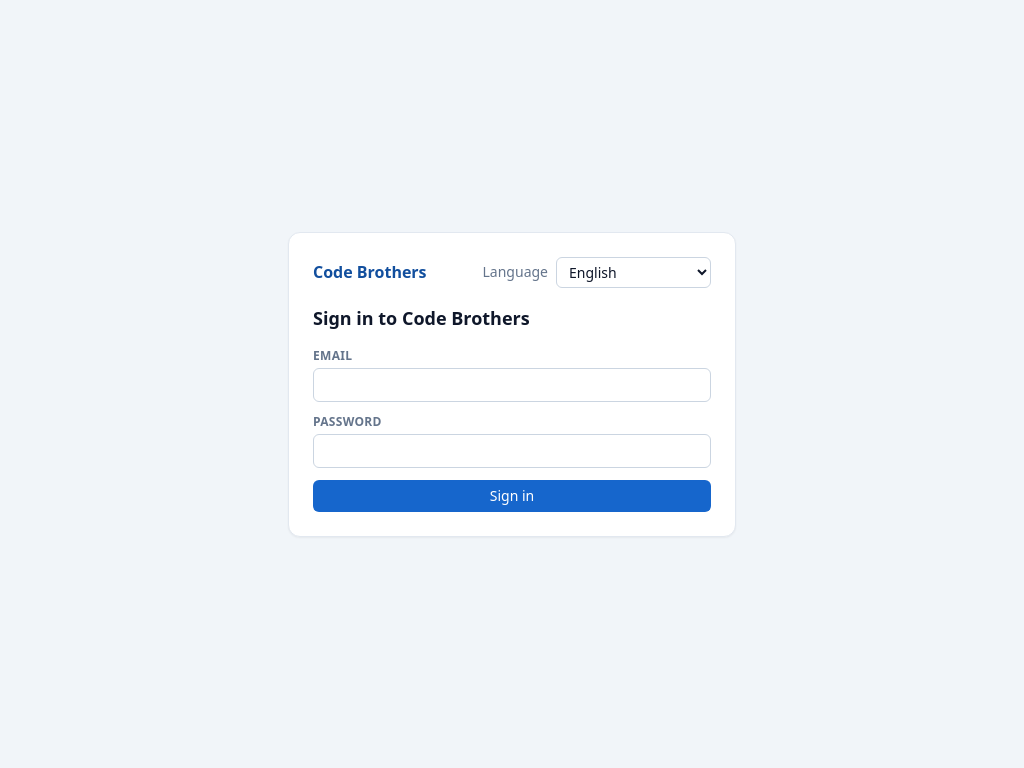
Test: login flow › submits credentials, stores the session token and enters the shell
Step 1. Type "owner@example.com" into the field labelled "Email" → (512, 384), box [313,368,711,402]
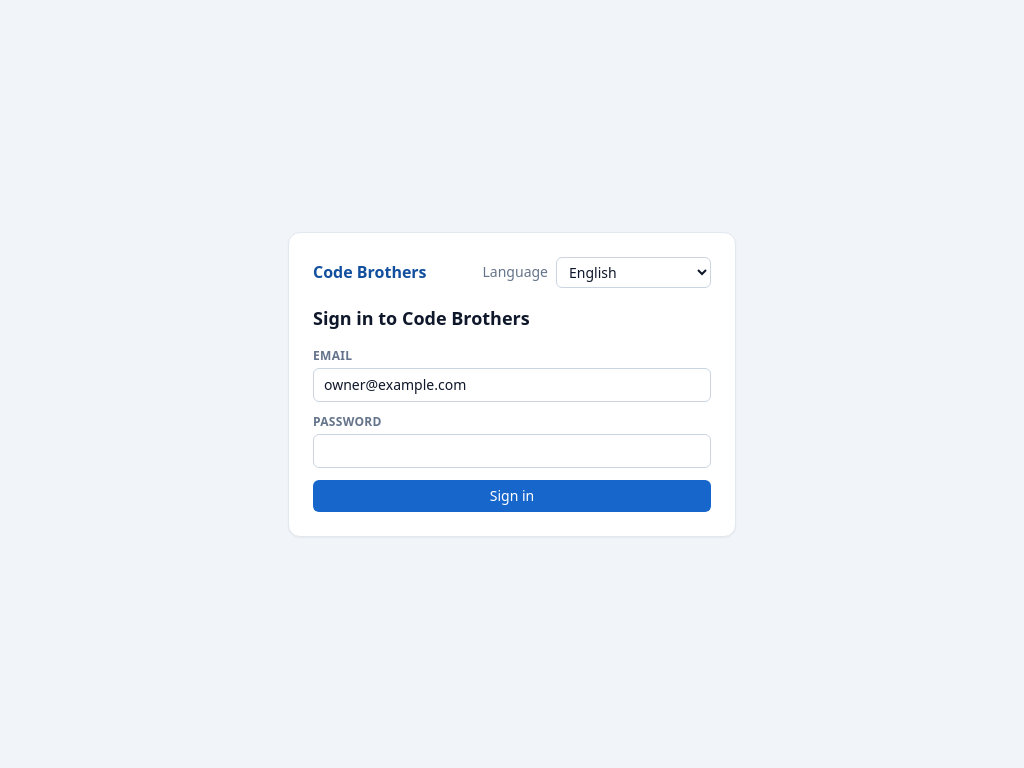
Step 2. Type "supersecret" into the password field labelled "Password" → (512, 450), box [313,434,711,468]
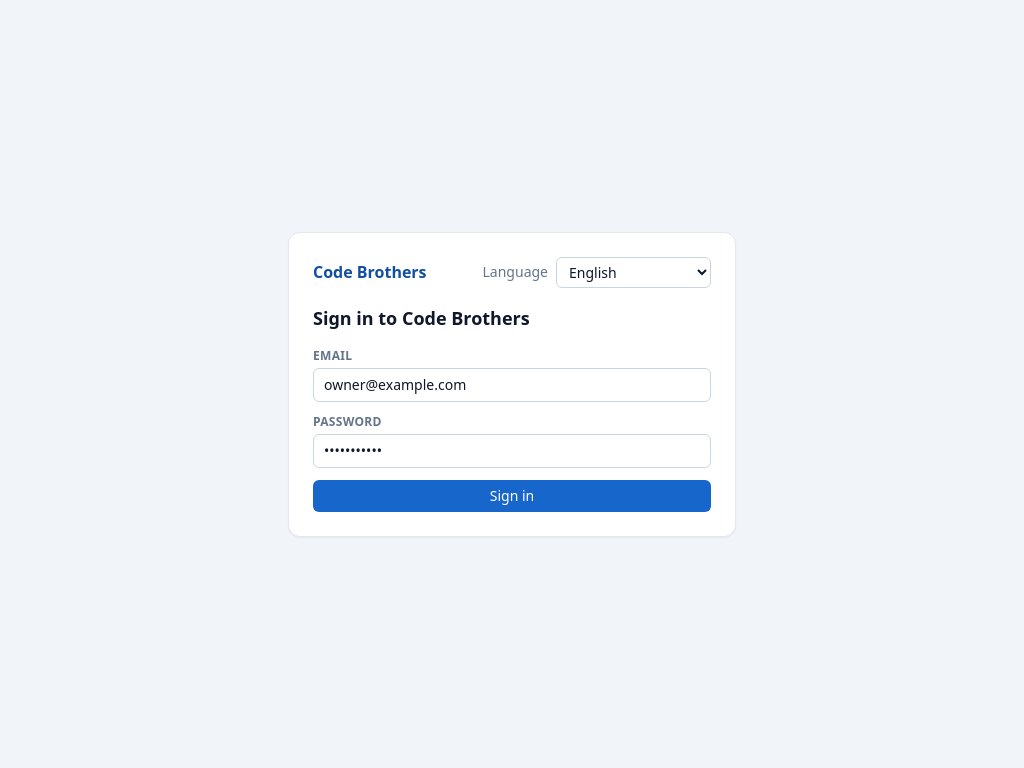
Step 3. Click the button "Sign in" → click(512, 496), box [313,480,711,512]
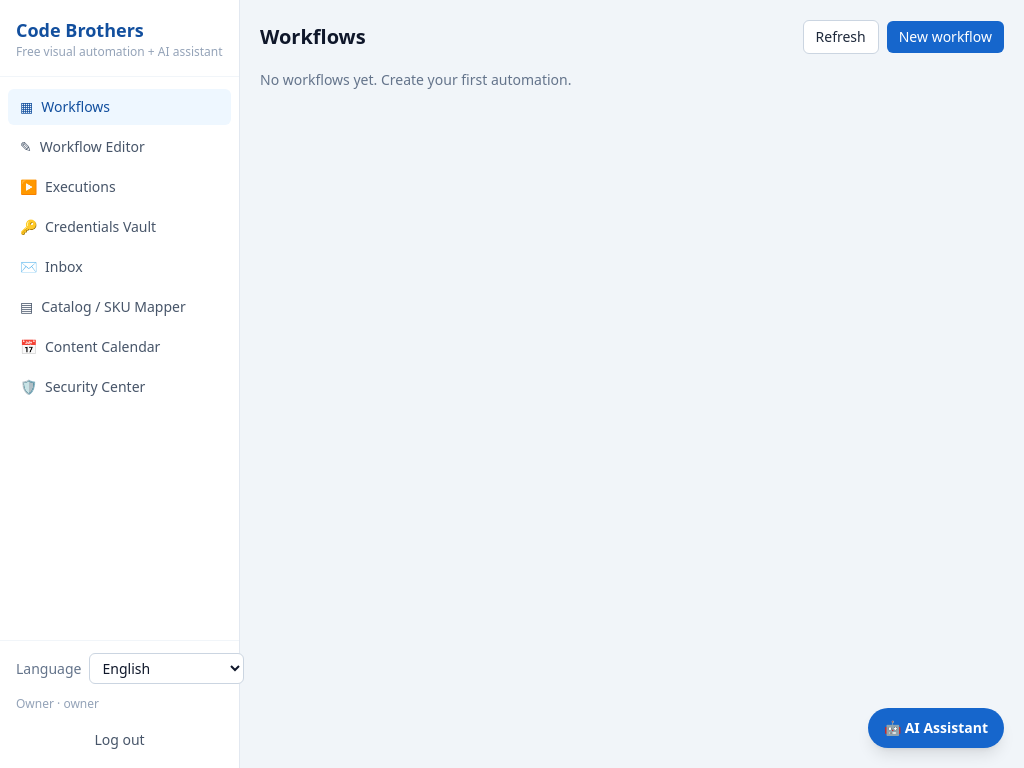
expect the button "▦ Workflows" is shown: met, box [8,89,231,125]
